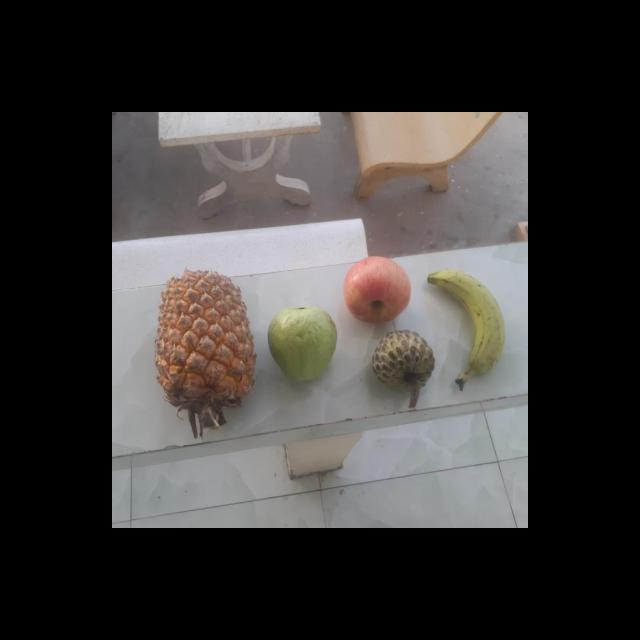Sakya fruit: (369, 329, 435, 392)
apple: (341, 256, 413, 326)
banana: (423, 268, 504, 384)
guava: (264, 306, 336, 384)
pineapple: (154, 268, 254, 411)
